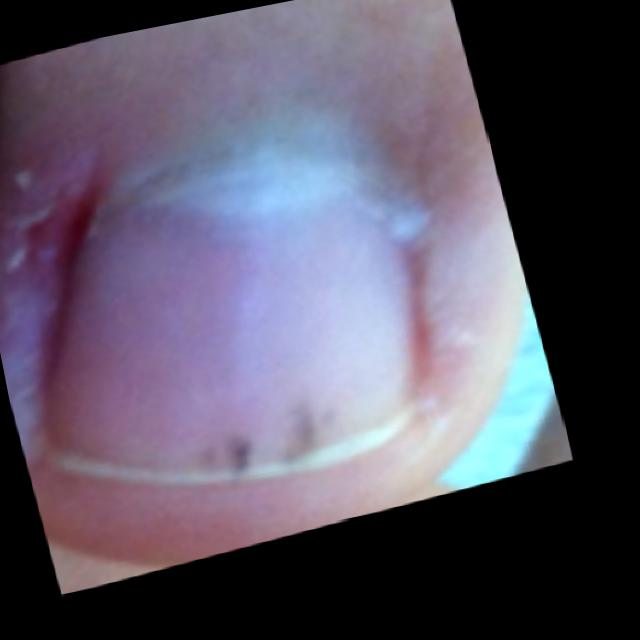Nail: (41, 172, 425, 483)
